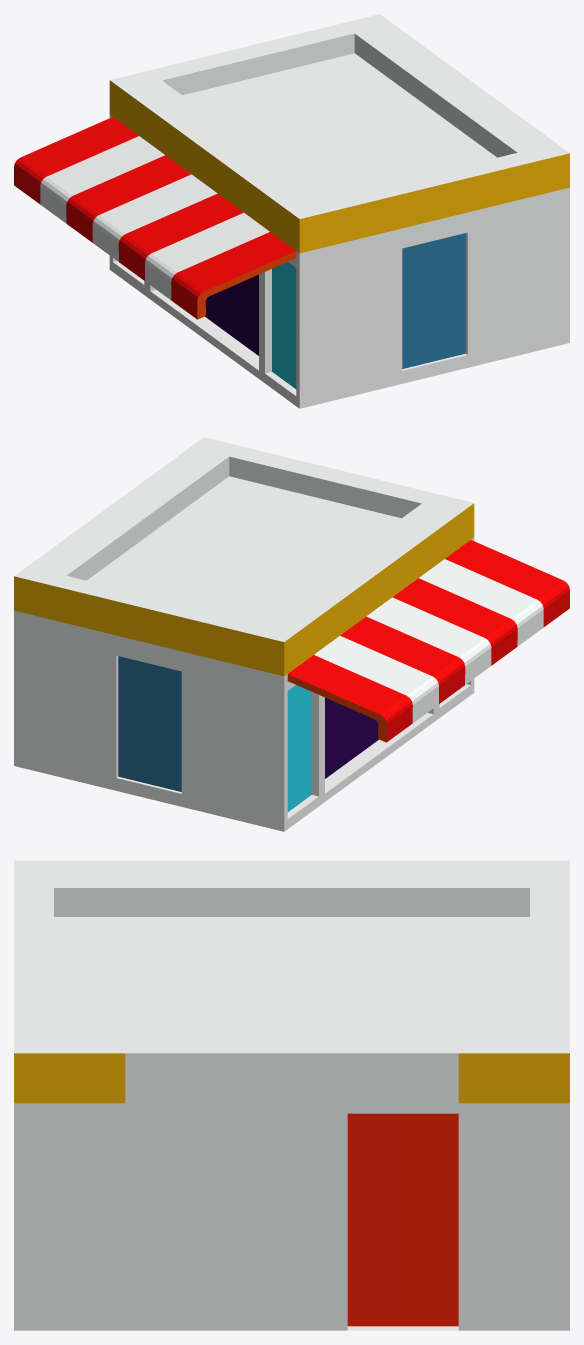
The model's file is white_shop.glb.
The picture shows the model from 3 angles, top to bottom: view 1: azimuth 30°, elevation 25°; view 2: azimuth 150°, elevation 25°; view 3: azimuth 270°, elevation 25°; orthographic projection. The views are drawn at different scales.
Visible parts, largest first — view 1: Object_6.006; view 2: Object_6.006; view 3: Object_6.006.
Boxes of the visible parts, <box> form: Object_6.006: <box>14,14,569,408</box>; Object_6.006: <box>14,437,569,831</box>; Object_6.006: <box>14,860,569,1330</box>.
Bounding box in the file's own units: 10 × 4.91 × 8.92.
Materials: 1 (1 with a texture image).
